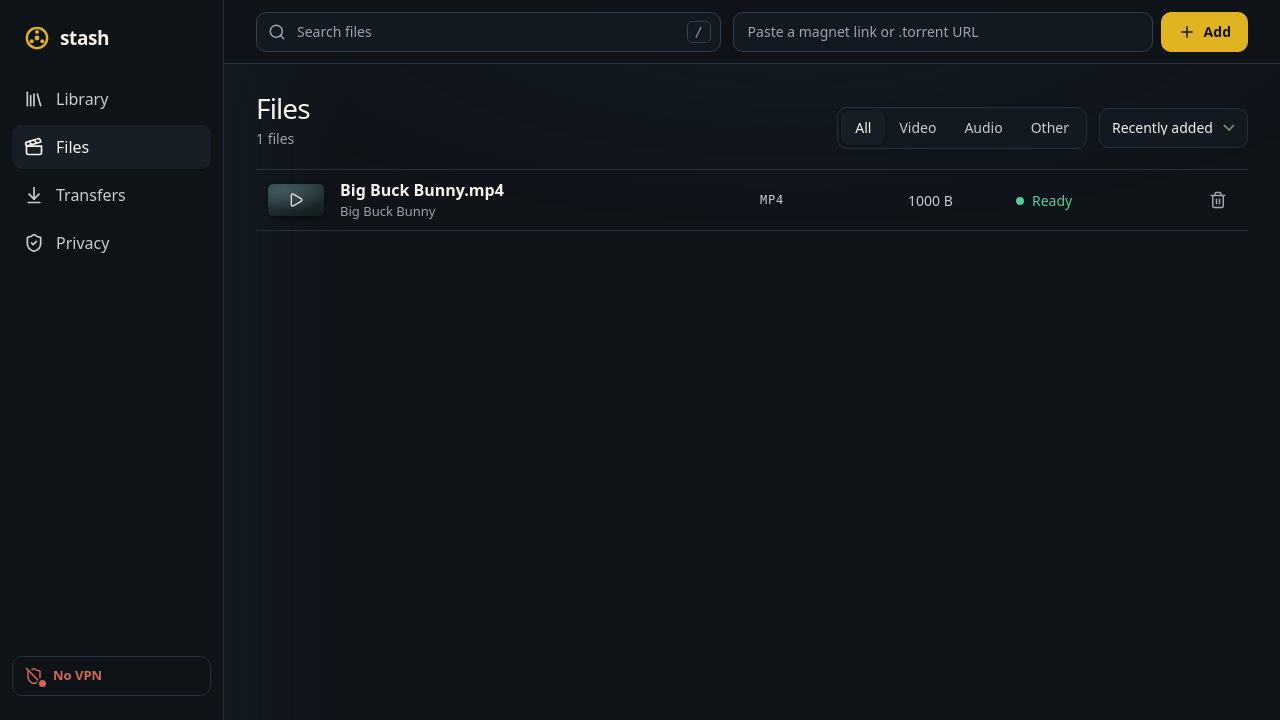
Test case: routing › the rail chip shows the network verdict and opens Privacy
Click the link with aria-label "Network: No VPN: no VPN tunnel": (112,676) [12, 656, 211, 696]
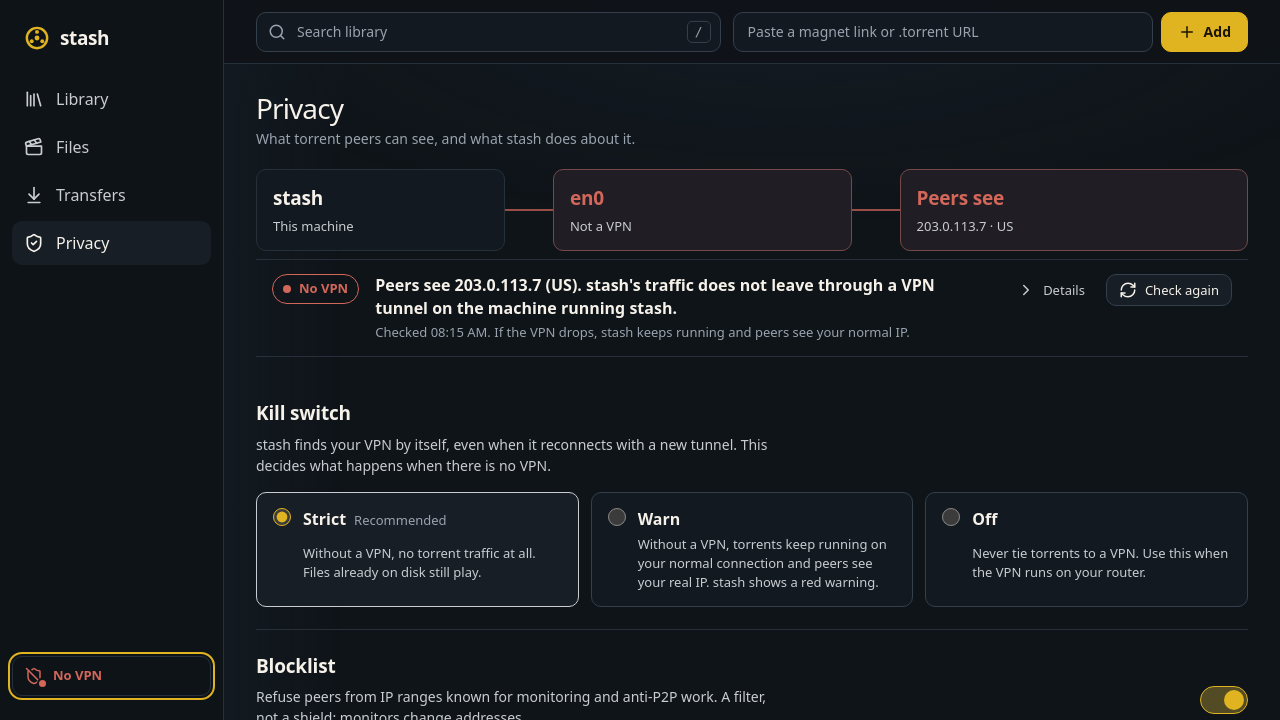
Check: the heading "Privacy" is shown, box [256, 89, 343, 127]
Check: the heading "Peers see 203.0.113.7 (US)" is shown, box [375, 274, 988, 319]
Check: the radio button labelled "Strict" is checked, box [273, 508, 291, 526]
Click the radio button labelled "Warn": (617,517) [608, 508, 626, 526]
(page scrolled)
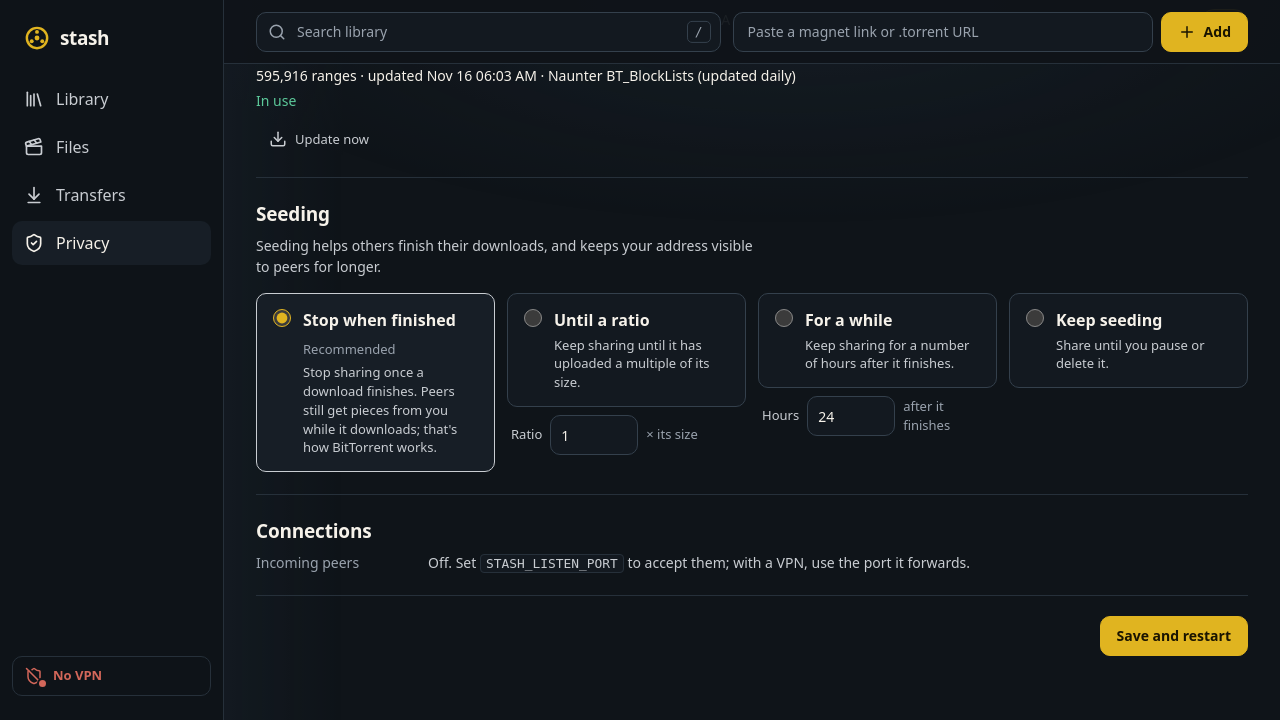
Check: the button "Save and restart" is shown, box [1100, 616, 1248, 656]
